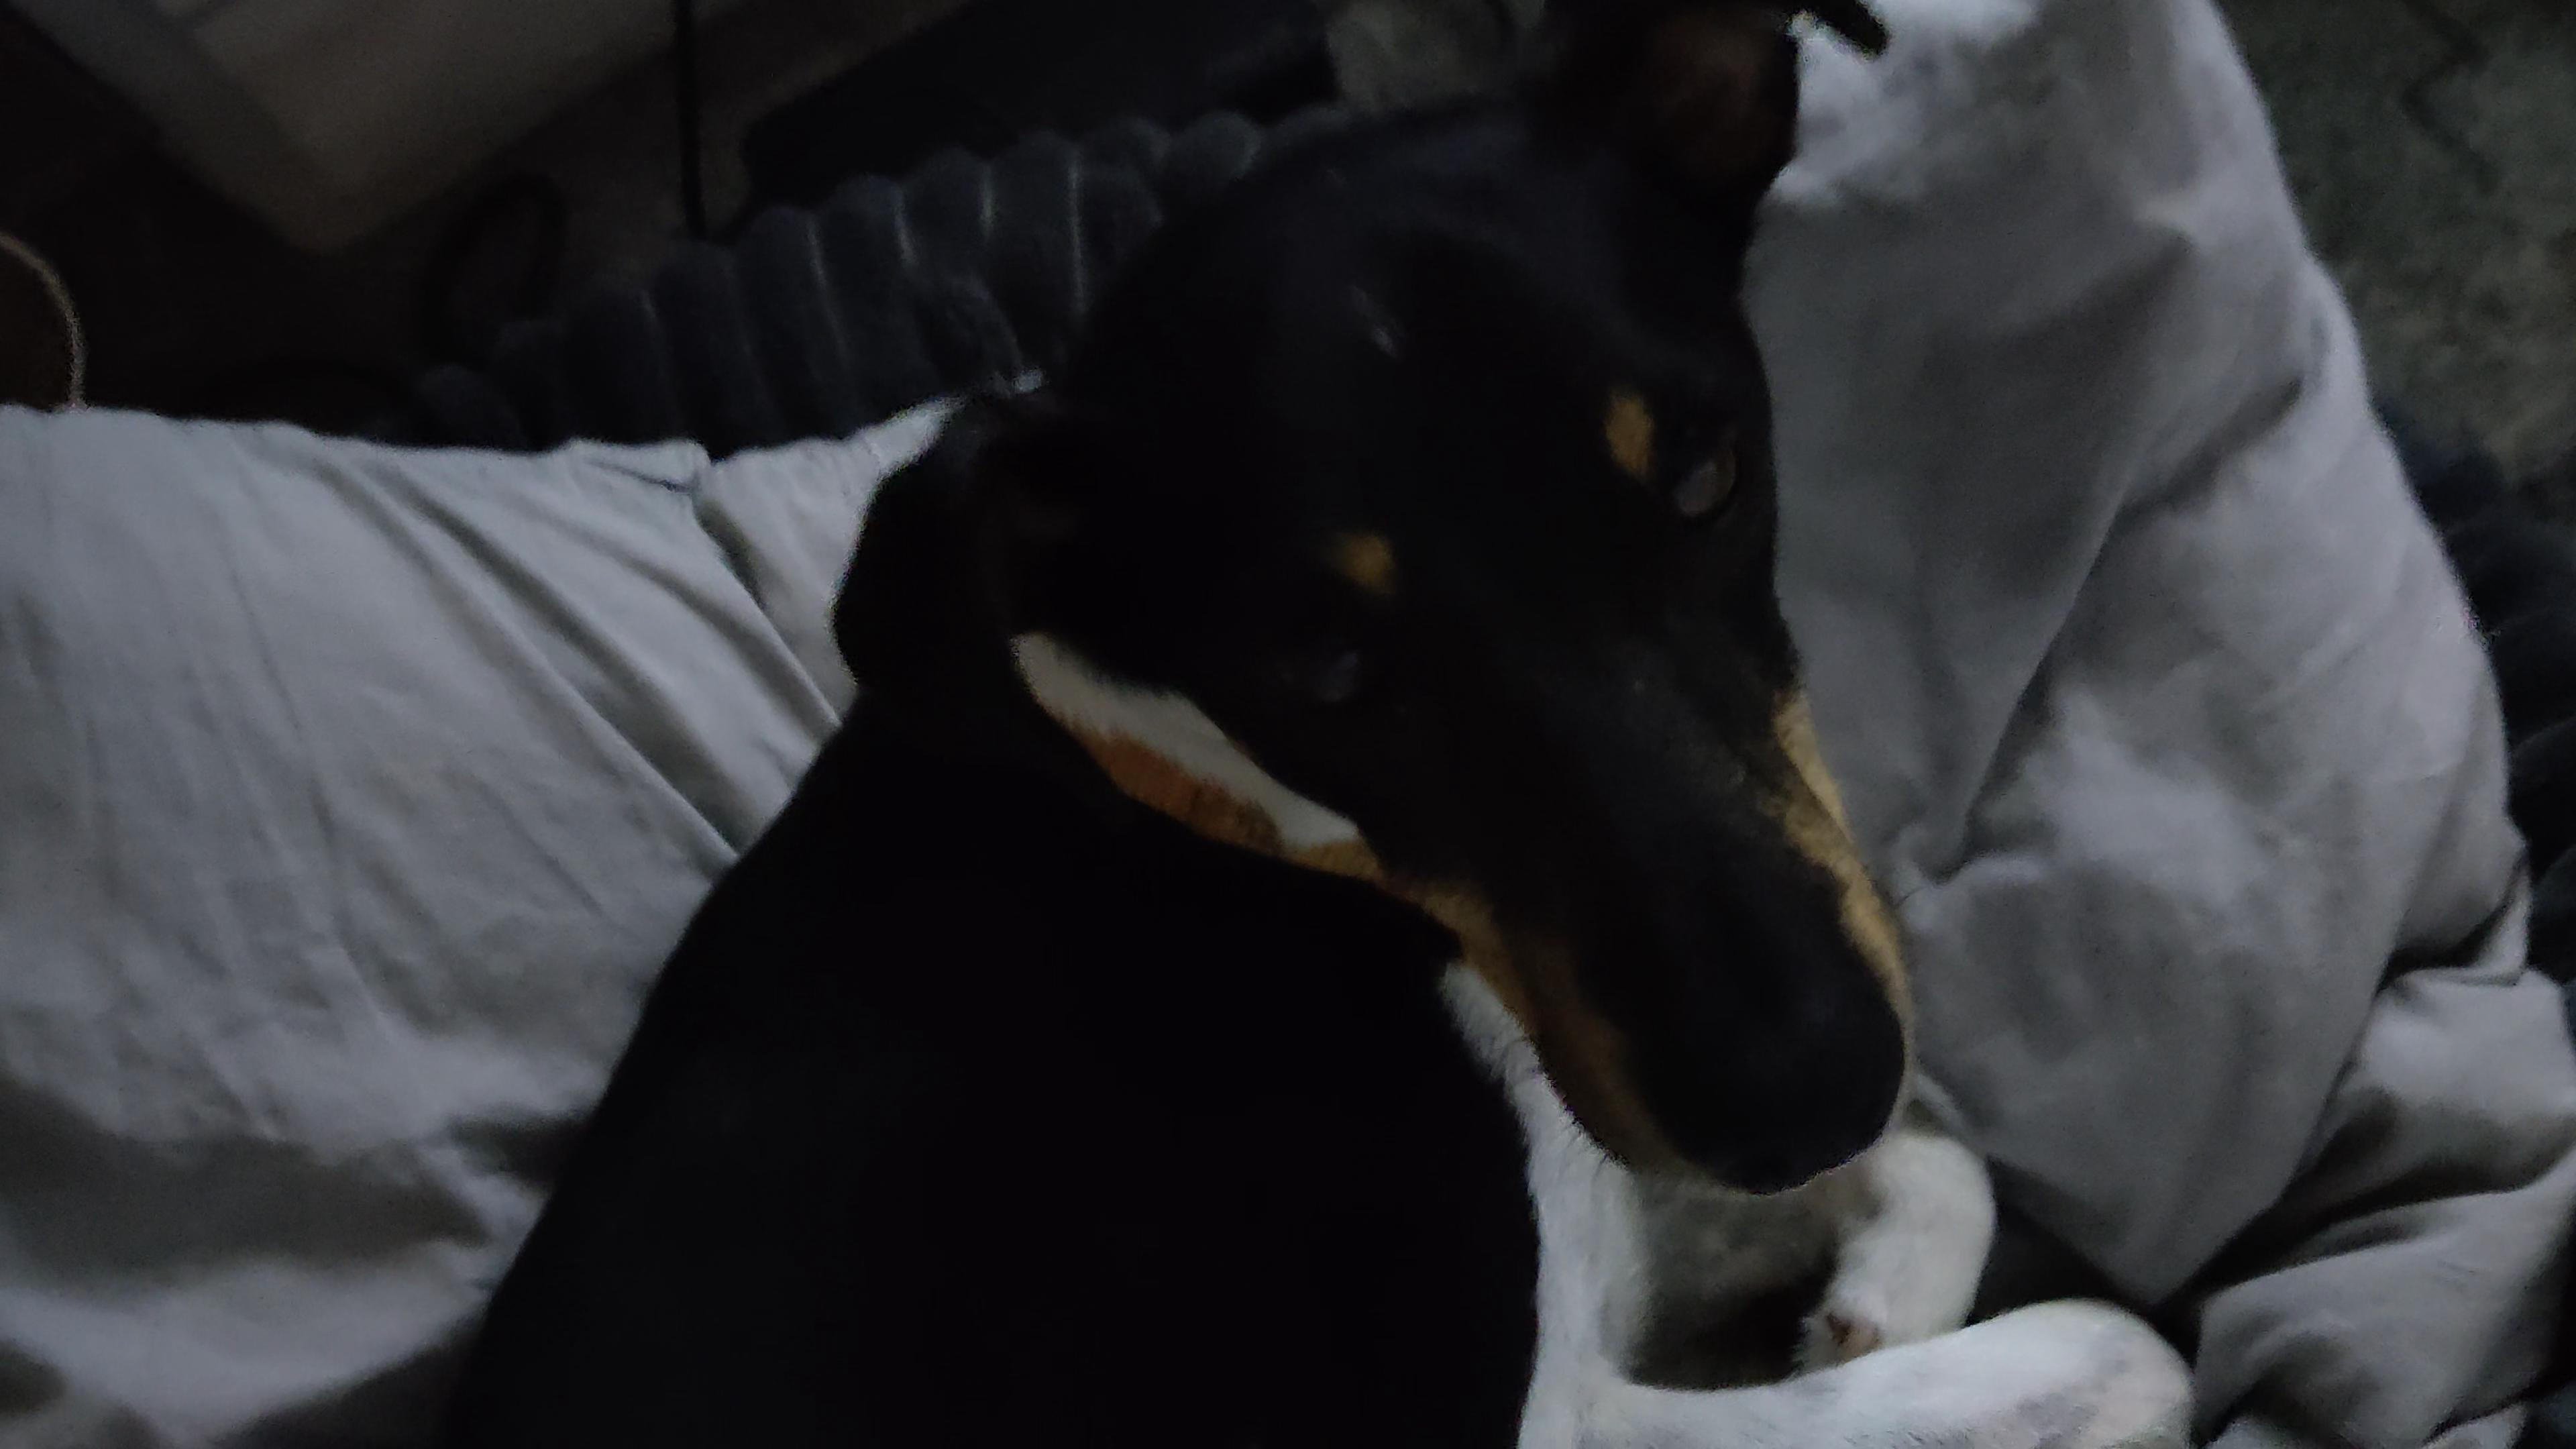Dog: (425, 0, 2204, 1449)
